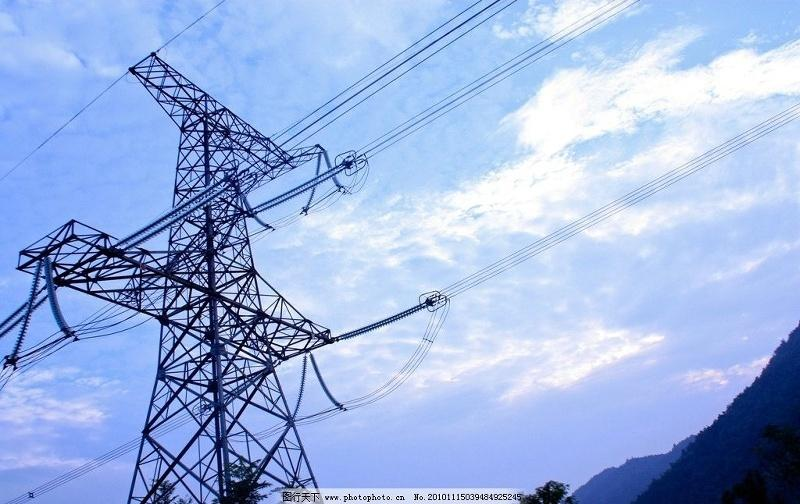power_tower: (31, 50, 399, 485)
